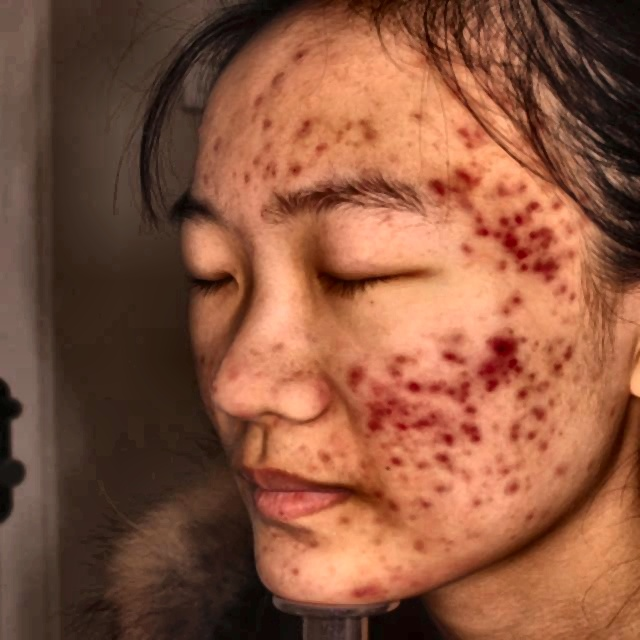nodule: (479, 472, 528, 512), (535, 180, 577, 224), (221, 142, 267, 181), (399, 397, 454, 429), (324, 357, 366, 397), (273, 152, 316, 190), (296, 116, 338, 151), (391, 352, 431, 387), (450, 382, 486, 420), (555, 337, 587, 376), (241, 102, 281, 133), (434, 340, 474, 370), (460, 208, 497, 240), (421, 177, 462, 205), (492, 224, 524, 259), (494, 215, 536, 241), (372, 384, 407, 415), (497, 431, 544, 454), (456, 164, 500, 188), (402, 372, 437, 402), (353, 572, 388, 602), (445, 114, 490, 136), (438, 431, 468, 463), (348, 117, 386, 142), (451, 414, 486, 441), (388, 442, 417, 474), (503, 373, 536, 401), (479, 328, 516, 352), (555, 232, 585, 261), (520, 400, 550, 429), (399, 532, 431, 559), (553, 277, 581, 306), (278, 51, 331, 66), (352, 415, 393, 434), (245, 68, 276, 93), (387, 486, 410, 519), (475, 357, 503, 384), (445, 235, 473, 261), (283, 561, 309, 589), (259, 523, 285, 551), (536, 255, 566, 279), (486, 293, 522, 313), (333, 507, 355, 538), (533, 373, 559, 398), (453, 192, 479, 216), (302, 532, 328, 556), (509, 251, 532, 275), (240, 166, 265, 188), (503, 354, 530, 374), (550, 460, 576, 480), (412, 456, 438, 476), (424, 482, 445, 506), (444, 327, 469, 347), (526, 225, 550, 245), (605, 402, 624, 426), (516, 195, 531, 221), (317, 447, 334, 467)
